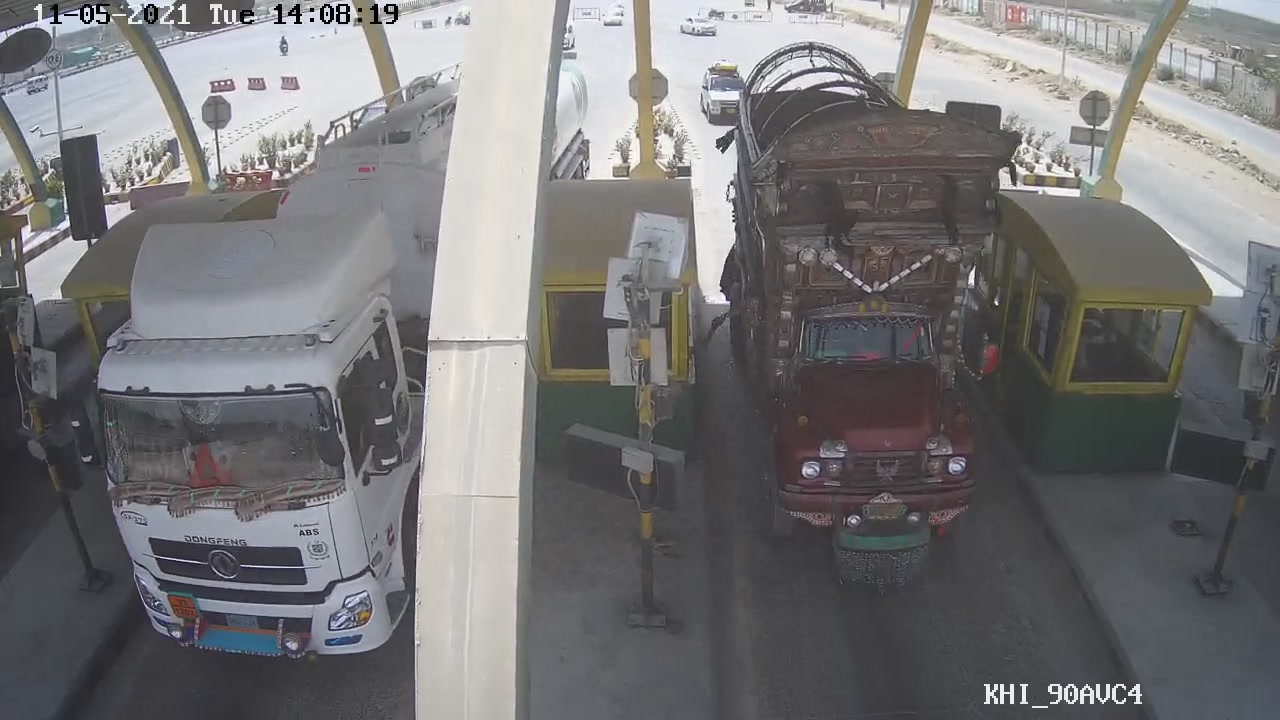F5: (716, 46, 1018, 589)
